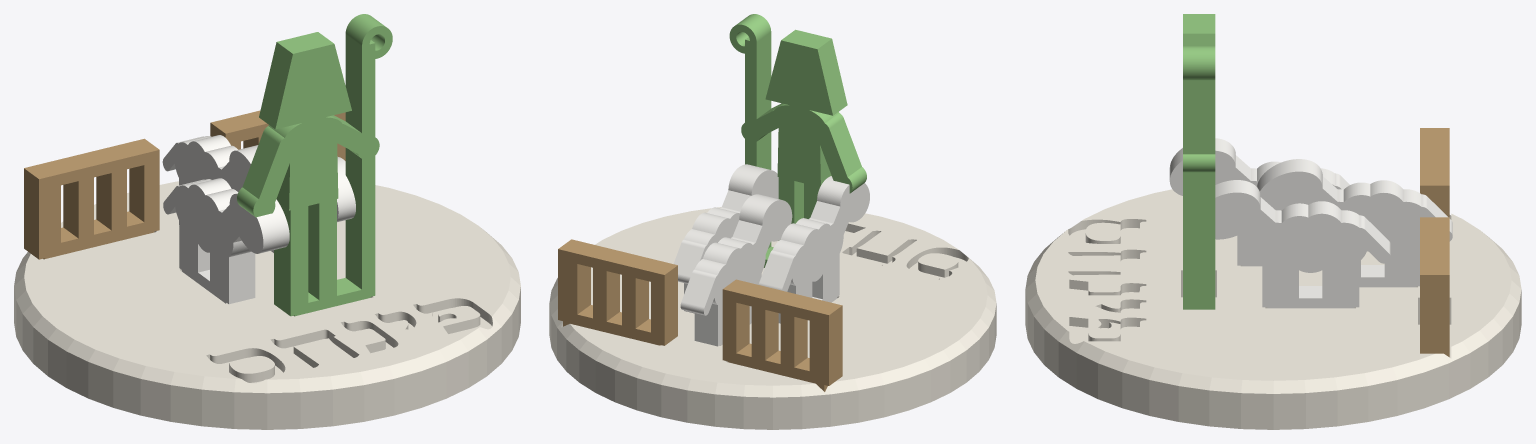
The model's file is pinchas.glb.
The picture shows the model from 3 angles, left to right: view 1: azimuth 30°, elevation 25°; view 2: azimuth 150°, elevation 25°; view 3: azimuth 270°, elevation 25°; orthographic projection. The views are drawn at different scales.
Visible parts, largest first — view 1: stage, shepherd, fold, sheep-1, sheep-3, sheep-2; view 2: stage, fold, shepherd, sheep-1, sheep-3, sheep-2; view 3: stage, sheep-2, shepherd, sheep-3, fold, sheep-1.
Part boxes in pixels (x1=…): stage: x1=14, y1=181, x2=520, y2=429; shepherd: x1=237, y1=14, x2=392, y2=316; fold: x1=24, y1=110, x2=345, y2=259; sheep-1: x1=163, y1=178, x2=289, y2=304; sheep-3: x1=162, y1=135, x2=258, y2=224; sheep-2: x1=271, y1=156, x2=355, y2=252; stage: x1=549, y1=207, x2=996, y2=429; fold: x1=558, y1=239, x2=842, y2=391; shepherd: x1=729, y1=14, x2=866, y2=267; sheep-1: x1=758, y1=176, x2=869, y2=323; sheep-3: x1=680, y1=194, x2=792, y2=346; sheep-2: x1=673, y1=164, x2=778, y2=313; stage: x1=1025, y1=189, x2=1521, y2=429; sheep-2: x1=1215, y1=180, x2=1390, y2=308; shepherd: x1=1183, y1=14, x2=1215, y2=309; sheep-3: x1=1257, y1=159, x2=1452, y2=287; fold: x1=1420, y1=128, x2=1449, y2=357; sheep-1: x1=1169, y1=138, x2=1349, y2=266.
Bounding box in the file's own units: 40 × 27.4 × 40.
